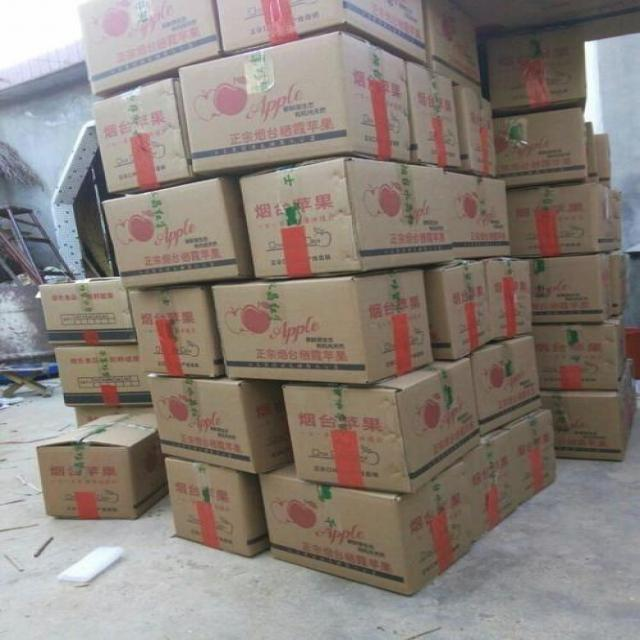box: (174, 30, 409, 175), (262, 466, 476, 603), (236, 148, 452, 278), (282, 352, 478, 492), (216, 269, 436, 388), (101, 171, 254, 297), (32, 406, 167, 517), (149, 370, 291, 474), (96, 72, 216, 192), (76, 3, 224, 100), (212, 0, 424, 63), (156, 447, 267, 564), (482, 20, 594, 116), (127, 282, 225, 386), (474, 406, 571, 510), (509, 176, 628, 260), (522, 312, 638, 392), (489, 107, 593, 189), (524, 255, 624, 333), (547, 388, 640, 471), (42, 273, 146, 347), (50, 339, 157, 407), (473, 347, 544, 447), (448, 174, 518, 270)
